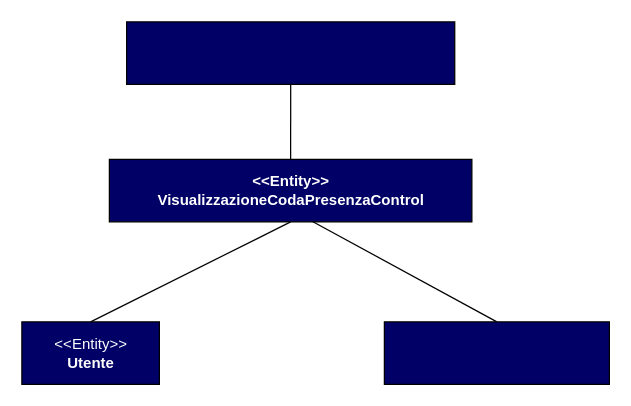
The diagram is 631 pixels wide and 406 high, and some of its shapes have lost their labels. Each missing label, with the centre of its shape:
"<<Boundary>> VisualizzazioneCodaPresenzaView" belongs at pixel 290 52.
"<<Entity>> CodaPresenzaRepository" belongs at pixel 496 352.
